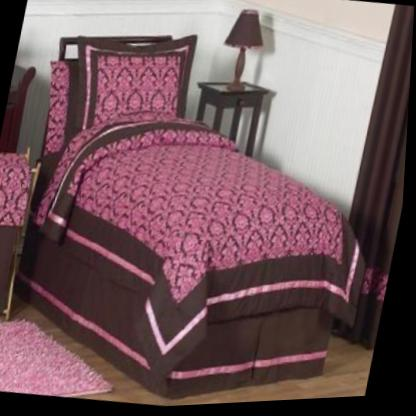Bed: (0, 2, 415, 416)
